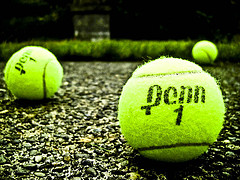tennis ball: (115, 55, 226, 165), (3, 44, 64, 101), (191, 39, 218, 66)
